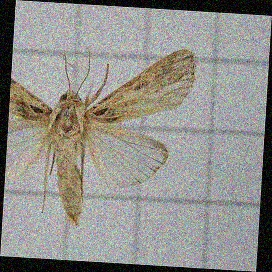Spodoptera litura: (8, 44, 193, 228)
